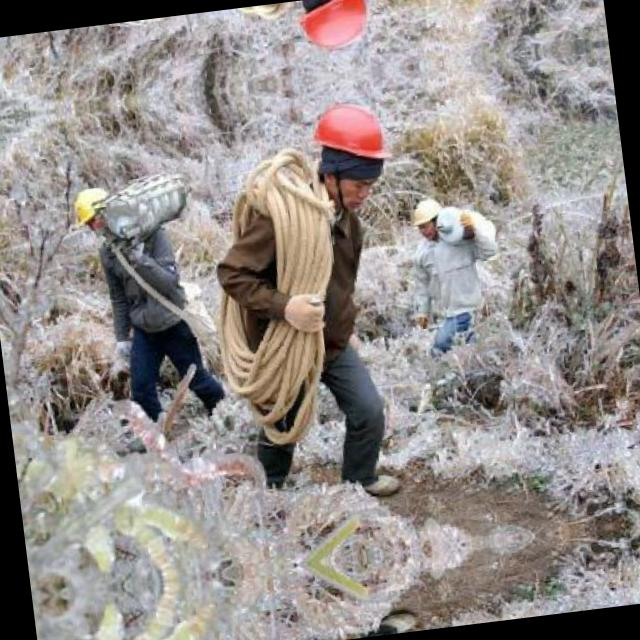helmet: (302, 92, 399, 209), (289, 0, 383, 61), (68, 180, 127, 246), (408, 192, 444, 238)
